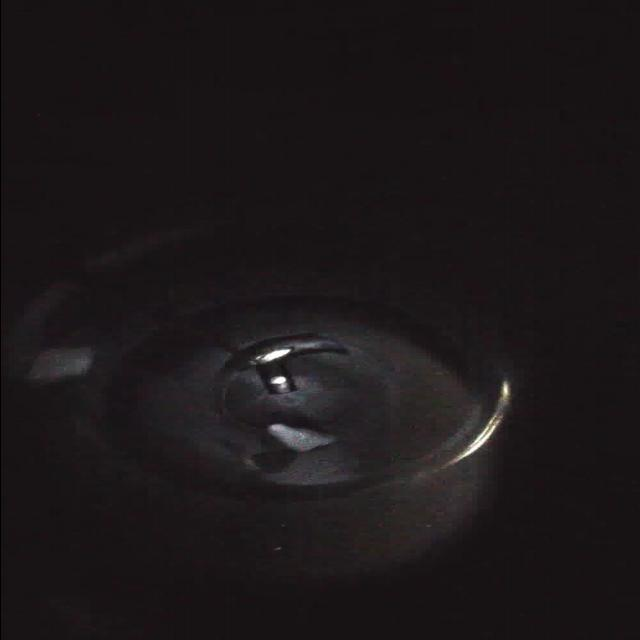impurity: (262, 420, 346, 454)
